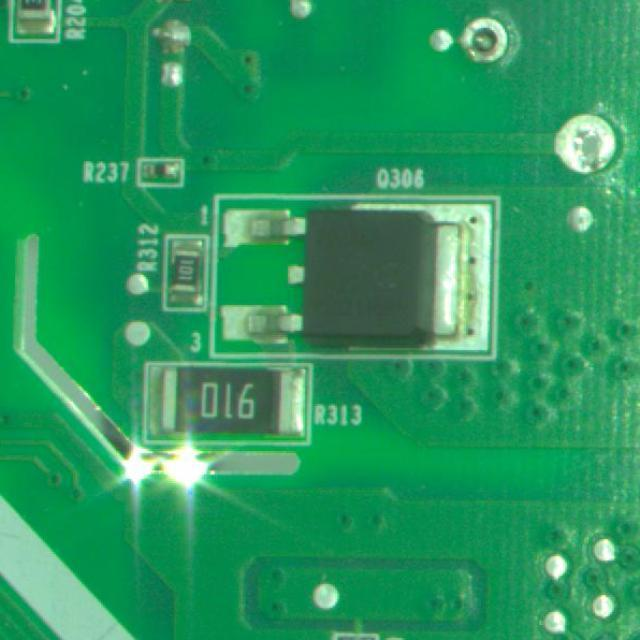Insufficient solder: (551, 103, 625, 197), (455, 10, 520, 76)
